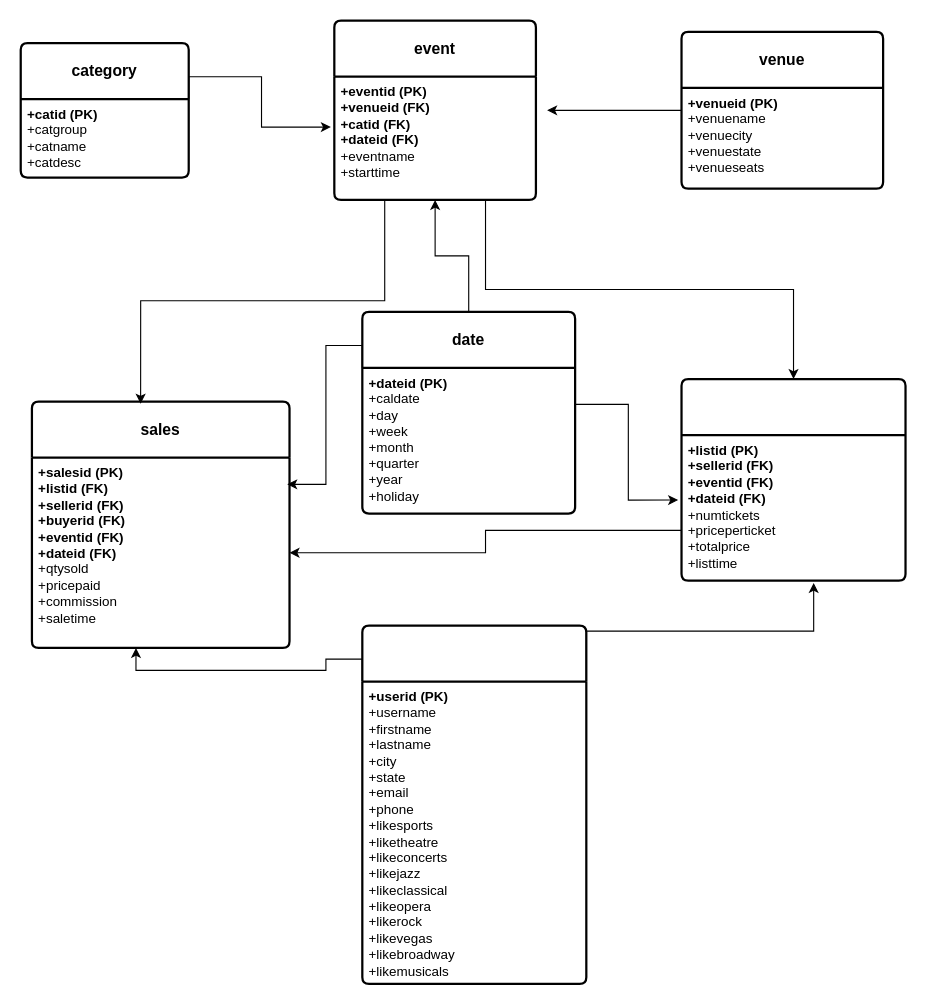
Image size: 925x1004. Some labels were removed from this diagram. The box of each missing label's shape, as (x1, y1, x2, y2) in pixels:
listing: (680, 377, 906, 581)
users: (361, 624, 587, 984)
